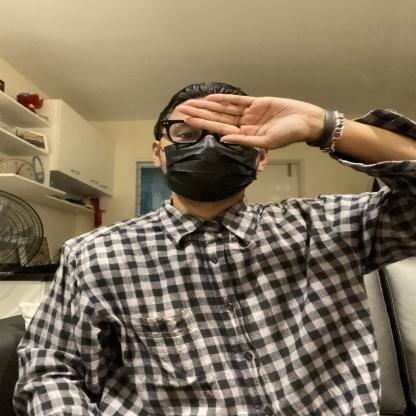Sick: (73, 73, 352, 191)
